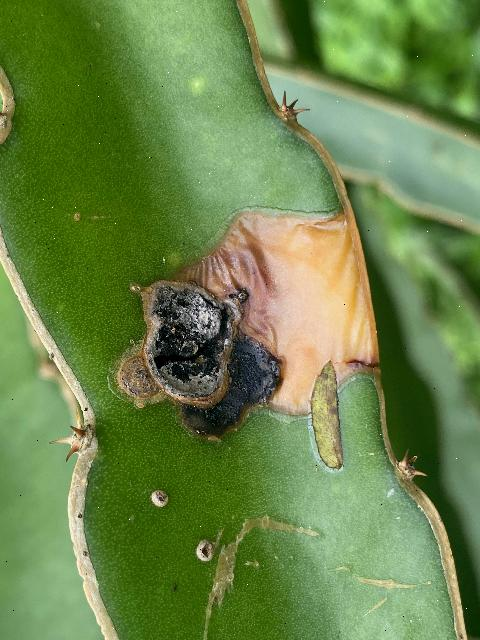stemcanker: (114, 200, 388, 442)
